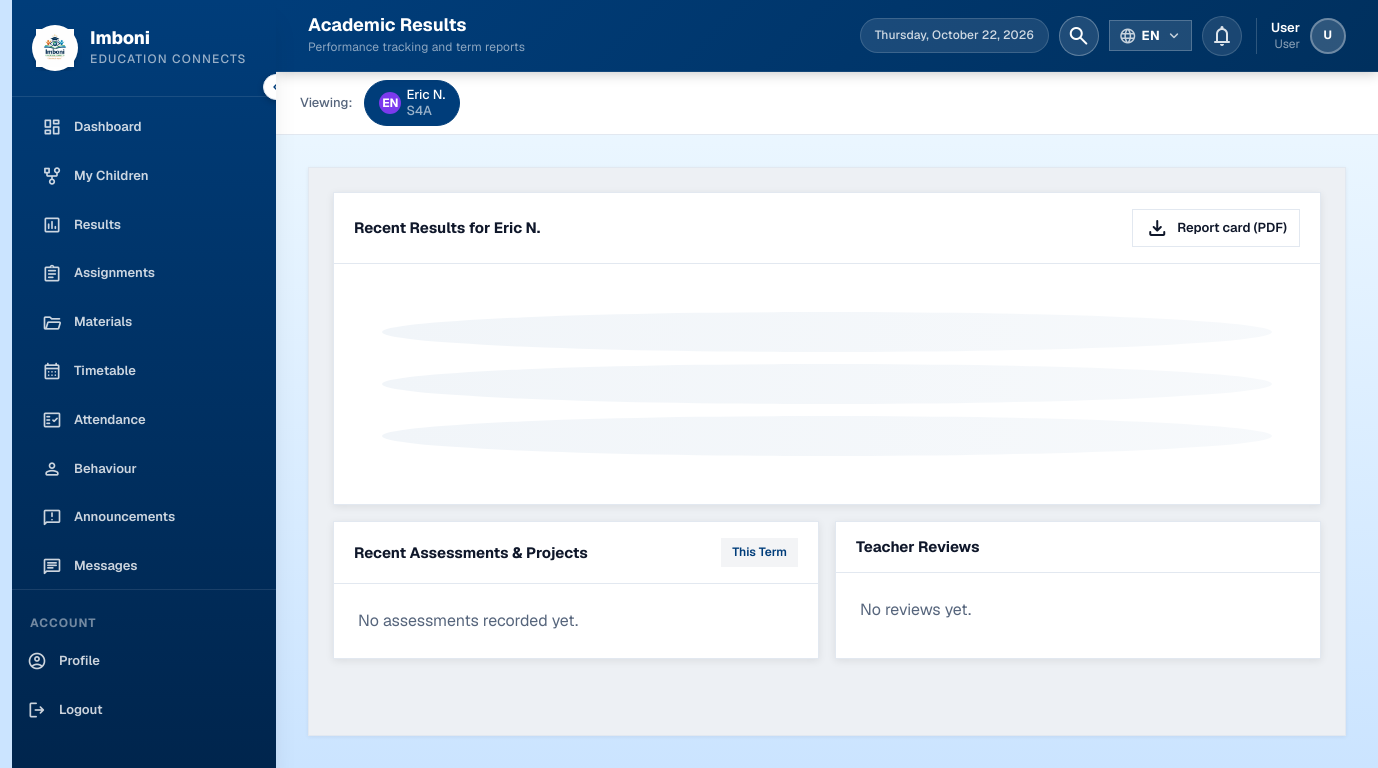
ParentResults › says so when there is no approved report yet, instead of failing silently
Click the button "Report card (PDF)" at (1216, 228), box [1132,209,1300,247]
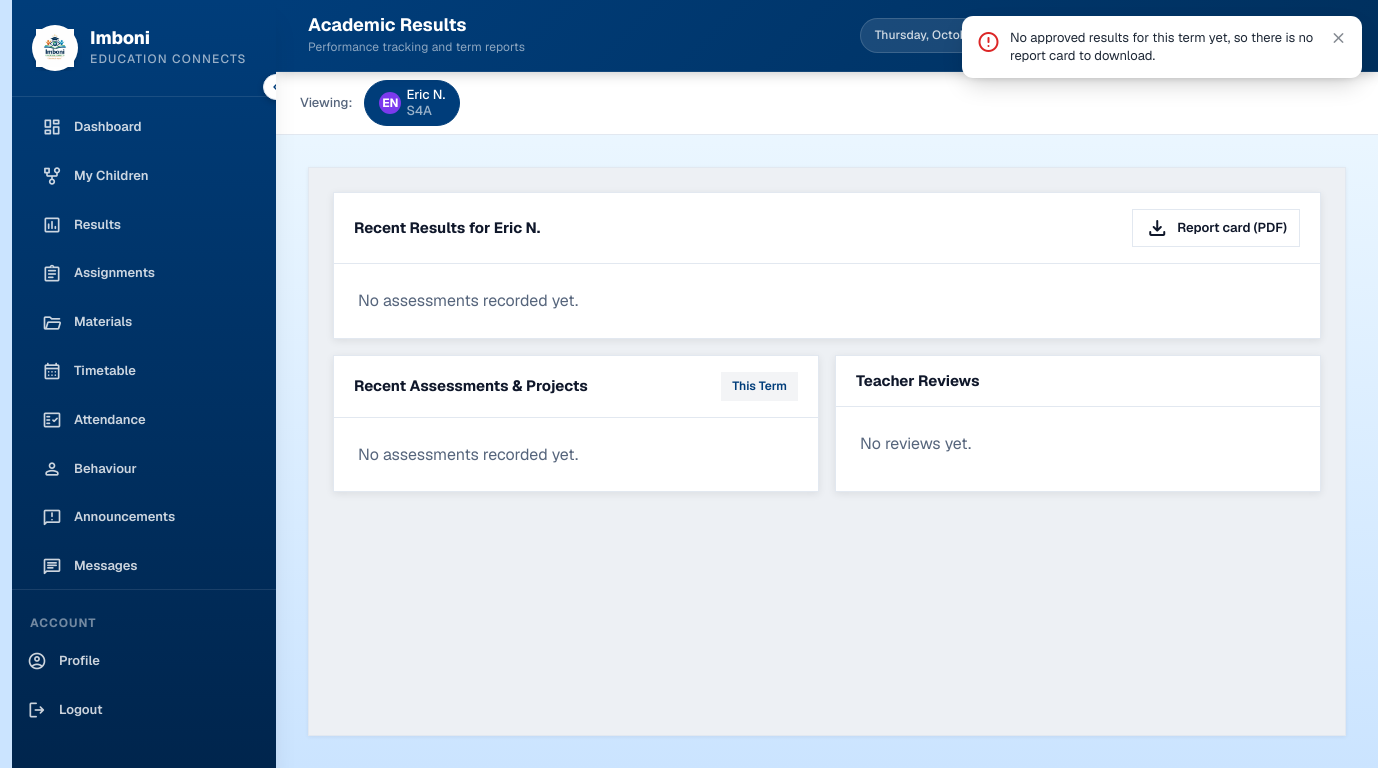
Result: the text "no report card to download" is shown at [1010,29,1313,64]
